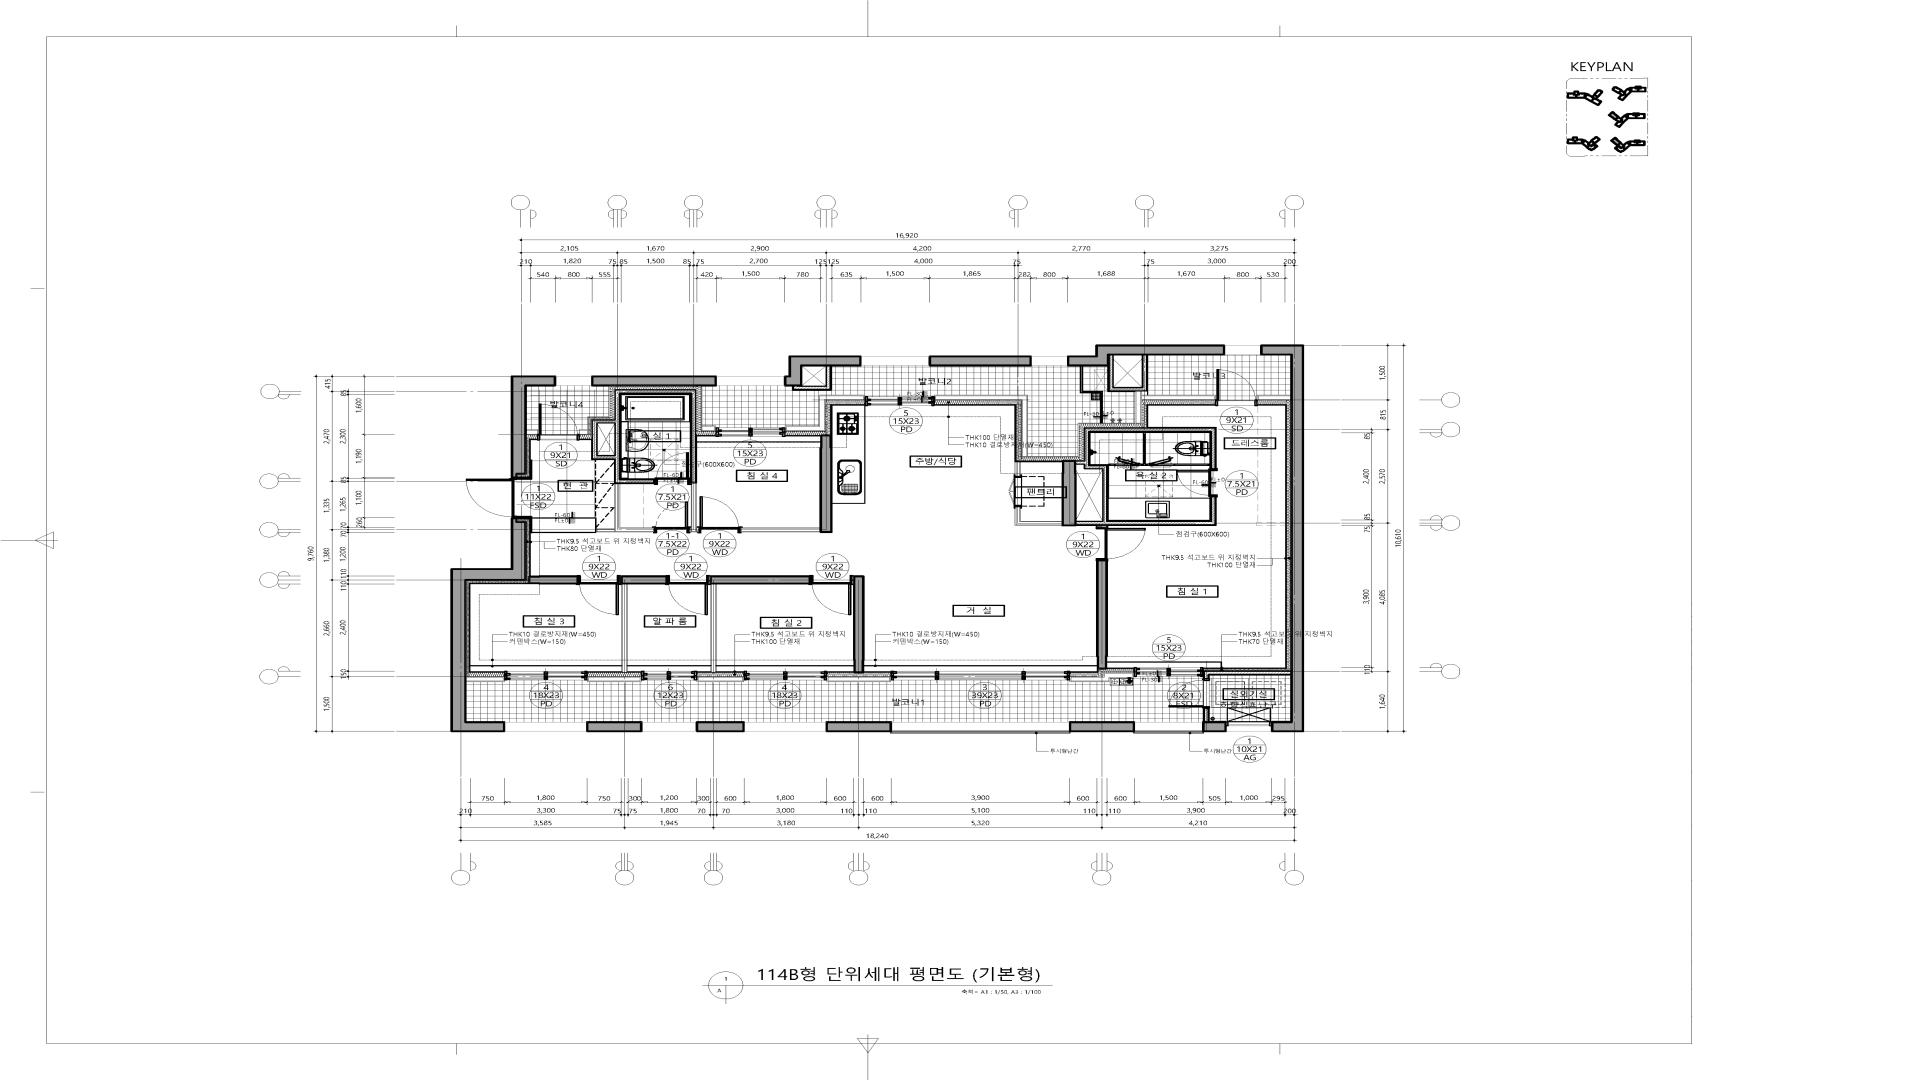door: (465, 477, 533, 518), (576, 575, 621, 616), (1096, 526, 1146, 562), (666, 575, 709, 616), (810, 575, 853, 616), (696, 496, 741, 534), (538, 404, 579, 440), (1216, 369, 1257, 406), (1168, 679, 1211, 708), (654, 501, 691, 534), (1178, 468, 1218, 497), (654, 452, 690, 485), (1009, 476, 1022, 506)
wall: (1261, 344, 1304, 732), (450, 518, 526, 732), (591, 389, 698, 531), (1076, 427, 1217, 526), (1108, 355, 1216, 423), (935, 396, 1027, 458), (510, 376, 556, 477), (1067, 344, 1225, 367), (785, 396, 865, 431), (783, 356, 861, 386), (591, 376, 717, 386), (819, 434, 832, 533), (1096, 562, 1108, 670), (853, 575, 865, 674), (928, 356, 1031, 367), (791, 367, 832, 390), (1062, 462, 1076, 526), (711, 575, 810, 584), (1015, 506, 1062, 526), (1203, 670, 1290, 679), (825, 721, 893, 732), (1069, 721, 1135, 732), (585, 721, 642, 732), (1069, 673, 1134, 682), (621, 584, 628, 673), (696, 721, 745, 732), (711, 584, 716, 673), (529, 575, 576, 584), (621, 575, 666, 584), (827, 676, 890, 682), (741, 527, 819, 531), (587, 676, 641, 682), (1203, 721, 1226, 732), (696, 676, 744, 682), (467, 676, 504, 682), (1257, 396, 1290, 401), (1203, 708, 1209, 721), (832, 529, 864, 531), (702, 426, 716, 431), (1015, 462, 1021, 476), (526, 430, 538, 435), (579, 430, 588, 435)
window: (893, 723, 1069, 733), (891, 671, 1069, 680), (504, 671, 587, 680), (744, 671, 827, 680), (1134, 667, 1203, 678), (716, 427, 785, 438), (865, 396, 934, 406), (1135, 723, 1201, 733), (505, 723, 585, 731), (745, 723, 825, 731), (861, 356, 928, 365), (717, 376, 783, 385), (641, 671, 696, 680), (1226, 721, 1271, 732), (642, 723, 695, 731), (1031, 356, 1067, 365), (556, 376, 591, 385), (1225, 345, 1259, 355)
